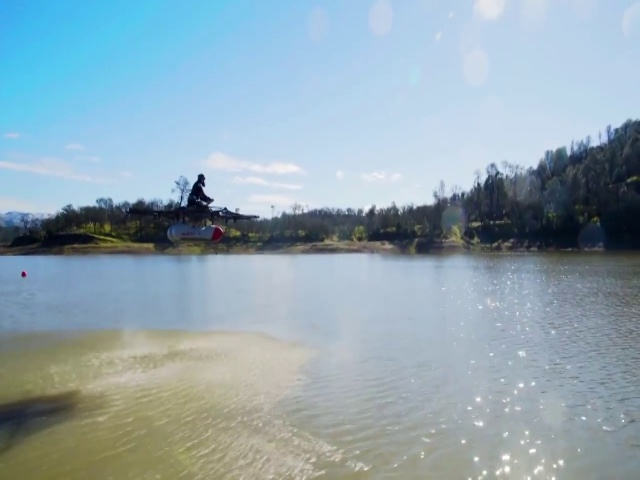drone: (125, 205, 261, 242)
